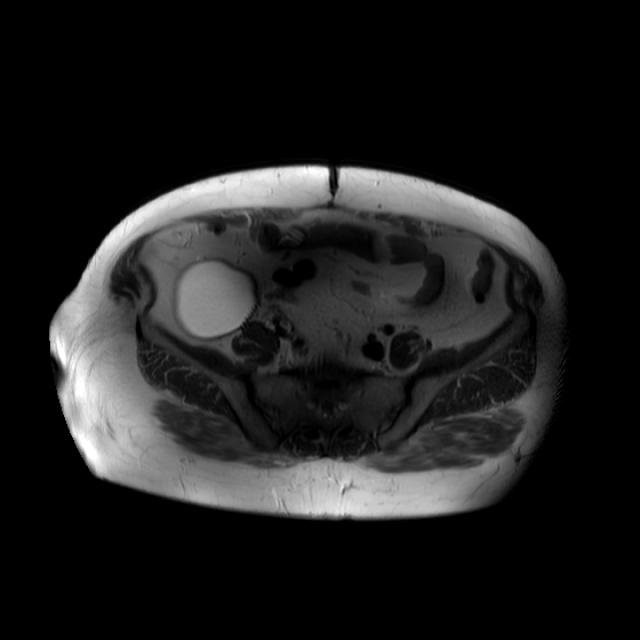sag: (177, 261, 256, 340)
